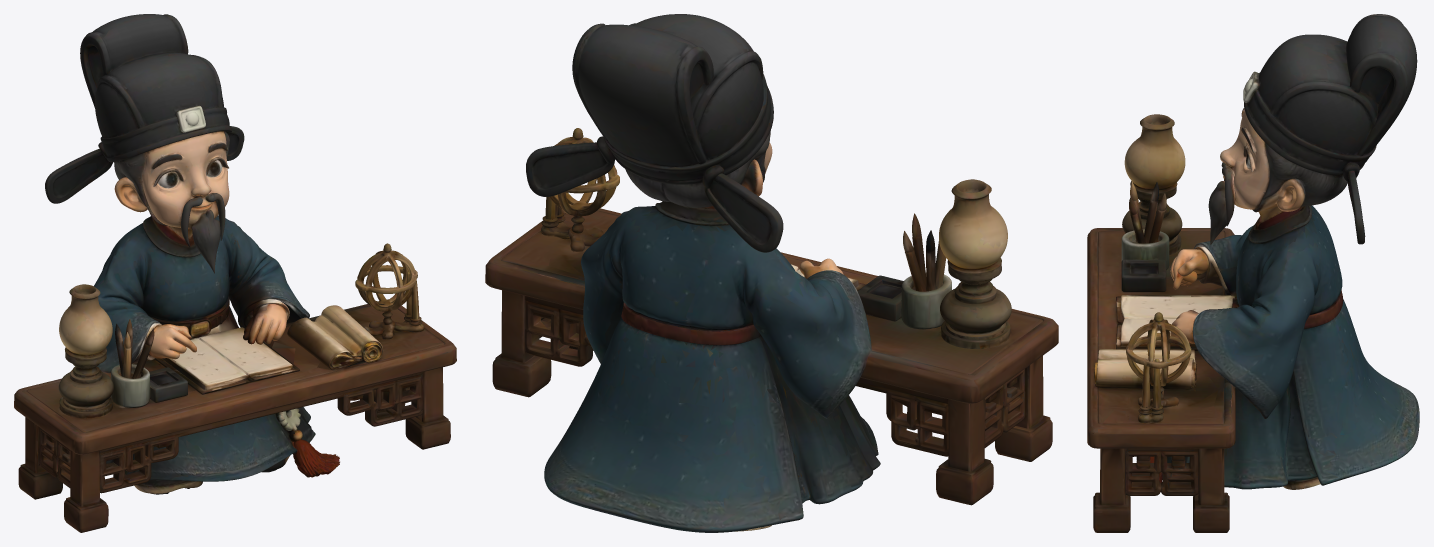
The model's file is night.glb.
The picture shows the model from 3 angles, left to right: view 1: azimuth 30°, elevation 25°; view 2: azimuth 150°, elevation 25°; view 3: azimuth 270°, elevation 25°; orthographic projection. The views are drawn at different scales.
Parts seen in each view (by area): view 1: node_0; view 2: node_0; view 3: node_0.
Part boxes in pixels (x1,y1,x2,y2): node_0: [14, 14, 456, 532]; node_0: [485, 14, 1058, 532]; node_0: [1087, 14, 1419, 532].
Bounding box in the file's own units: 0.8253 × 0.8219 × 0.5698.
Materials: 1 (1 with a texture image).
